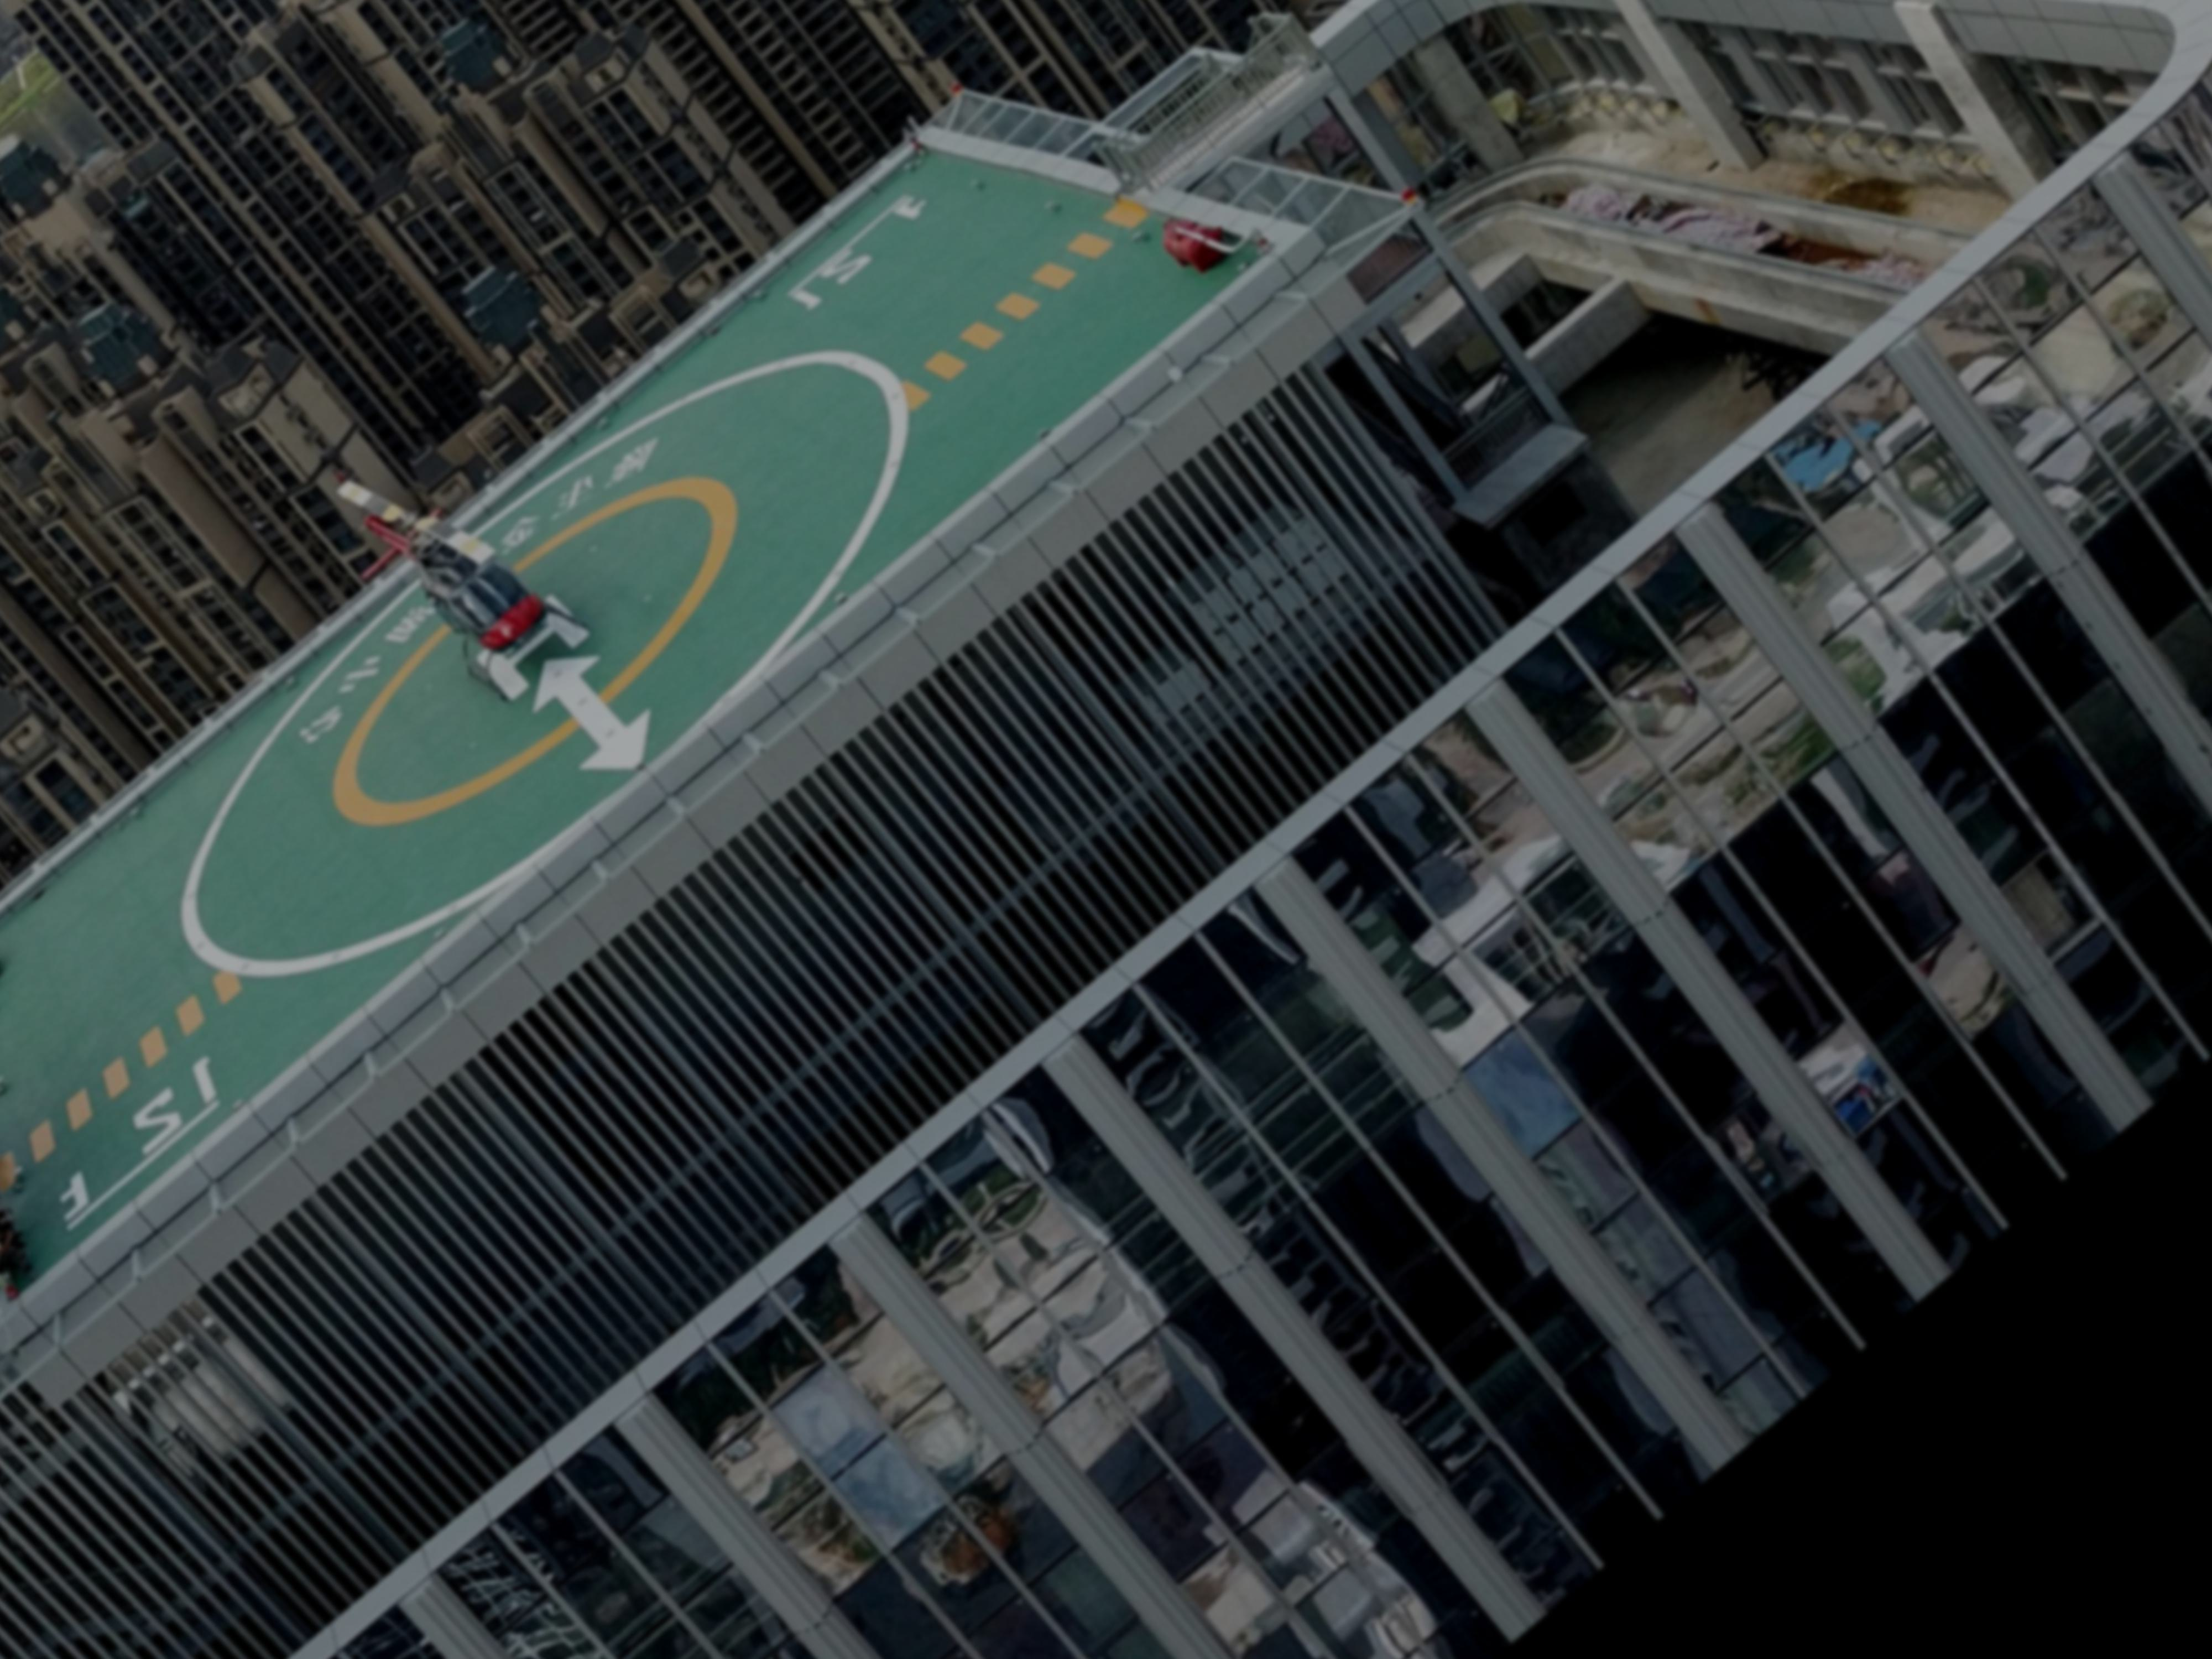Apron: (270, 453, 756, 847)
